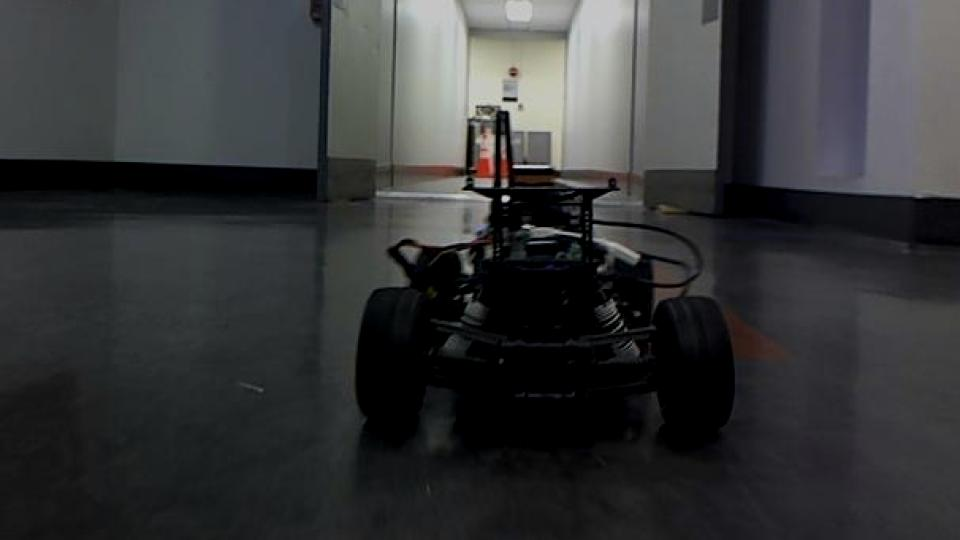car: (350, 173, 738, 440)
